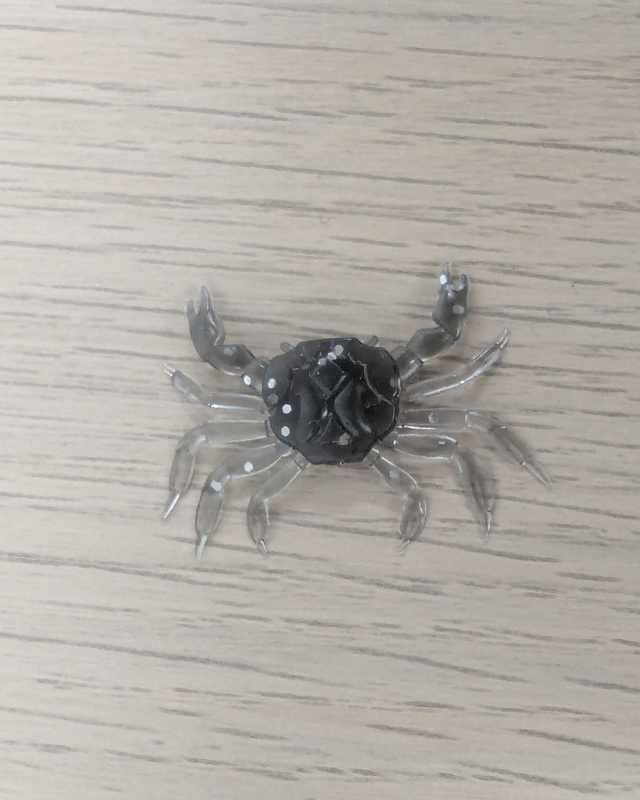crab1: (157, 260, 557, 566)
